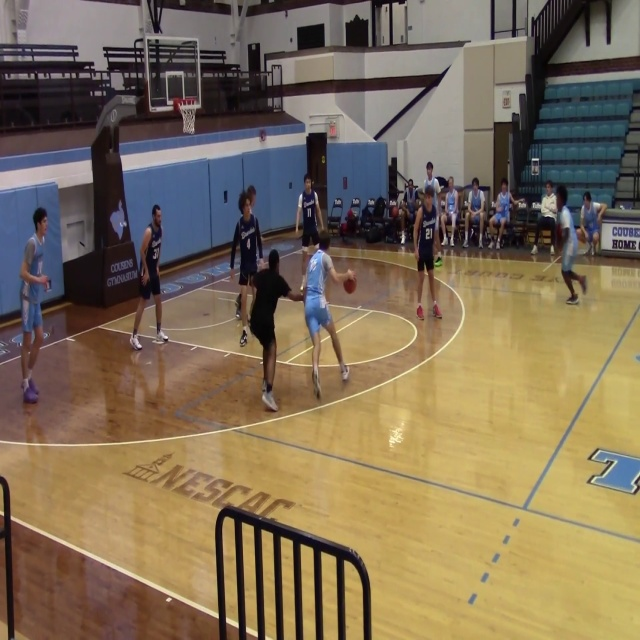Basketball: (343, 275, 356, 294), (576, 229, 587, 243), (555, 225, 563, 239)
